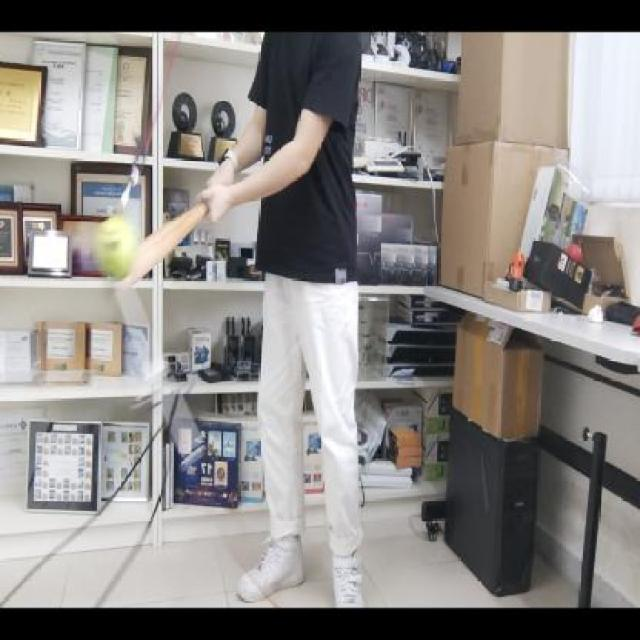baseball: (93, 215, 133, 283)
